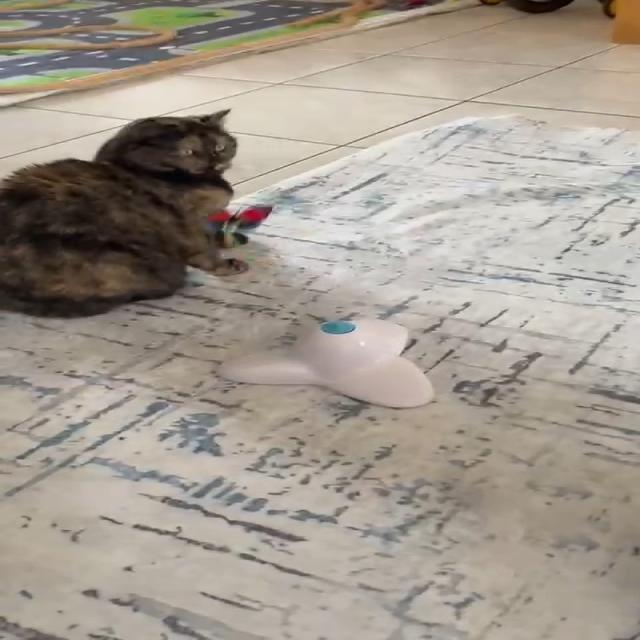authorized: (0, 107, 248, 319)
